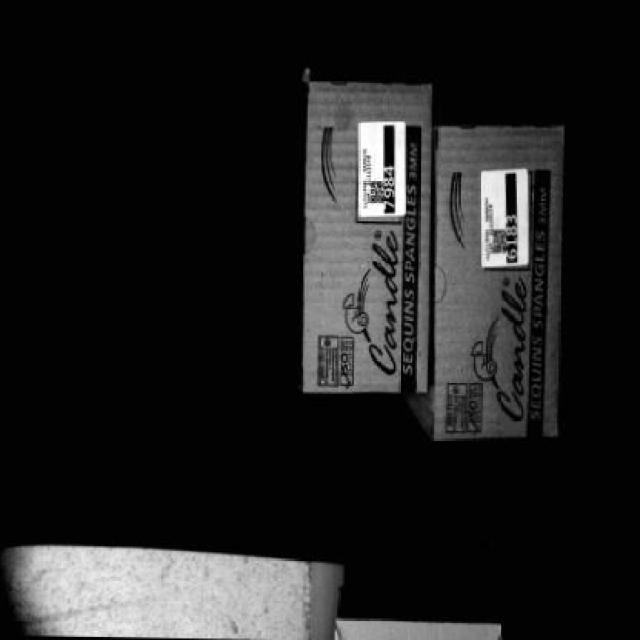cardboxes: (434, 123, 566, 434), (304, 85, 430, 389)
